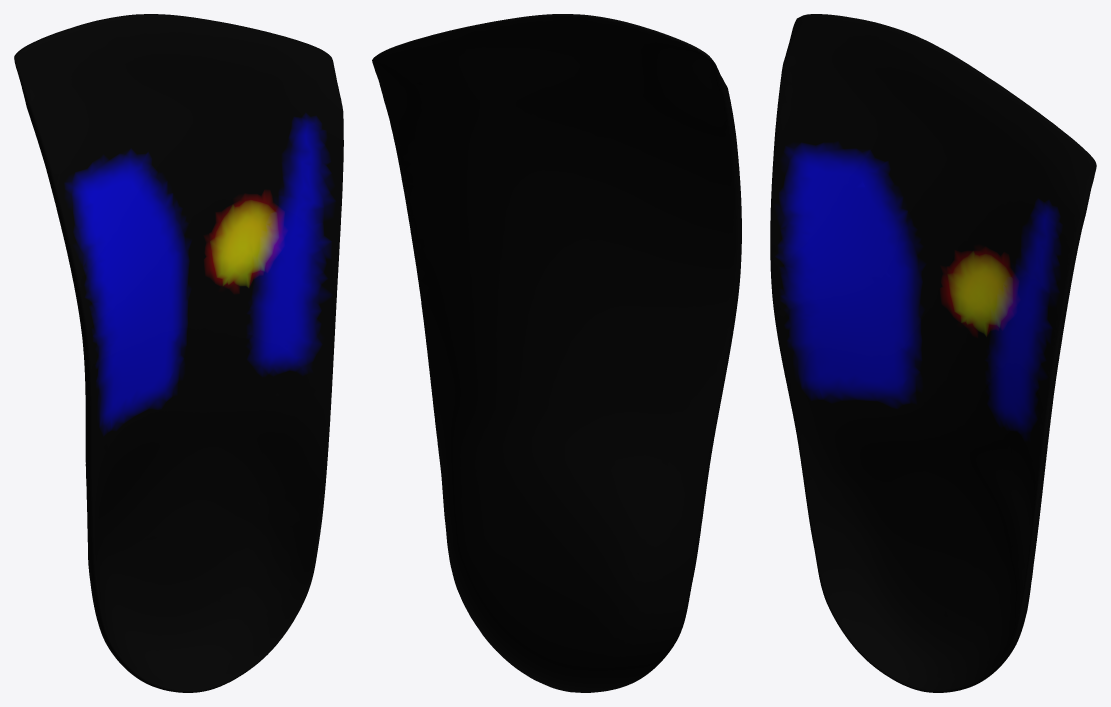
Rendered from CPO-307216_RIGHT.glb.
3 views of the same model, side by side, from view 1: azimuth 30°, elevation 25°; view 2: azimuth 150°, elevation 25°; view 3: azimuth 330°, elevation 25° (orthographic). The views are drawn at different scales.
Parts seen in each view (by area): view 1: geometry_0; view 2: geometry_0; view 3: geometry_0.
Boxes of the visible parts, box(x1,y1,x2,y2) form: geometry_0: box(14, 14, 343, 692); geometry_0: box(372, 14, 741, 692); geometry_0: box(770, 14, 1096, 692).
Size of the model in its own units: 102 by 204 by 28.61.
